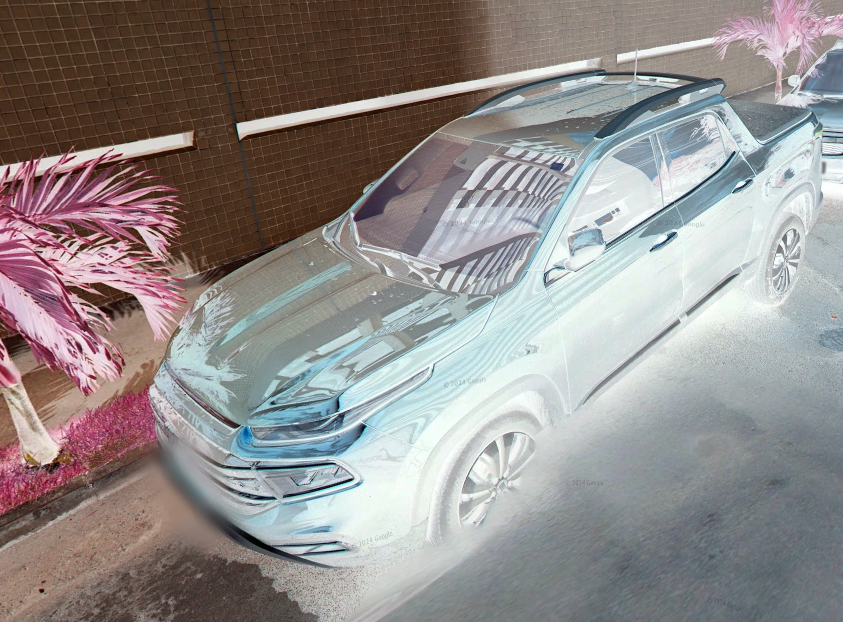car: (154, 75, 821, 554)
